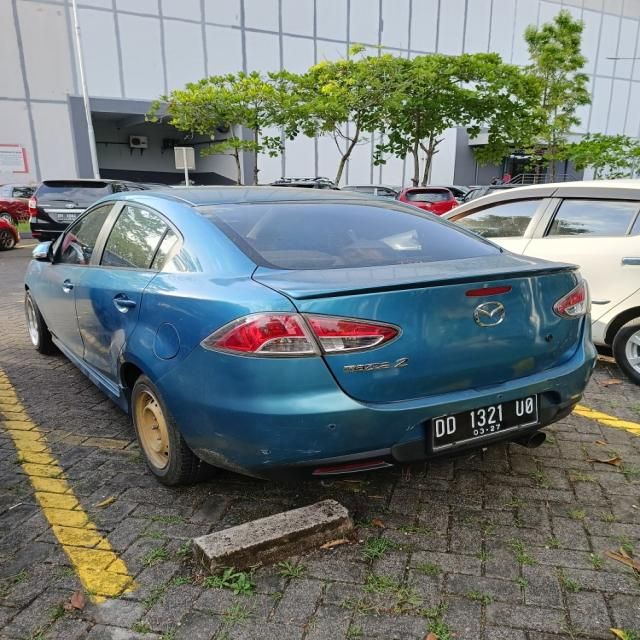plates: (420, 393, 544, 452)
